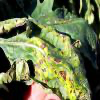Tomato Septoria leaf spot: (1, 12, 94, 99)
